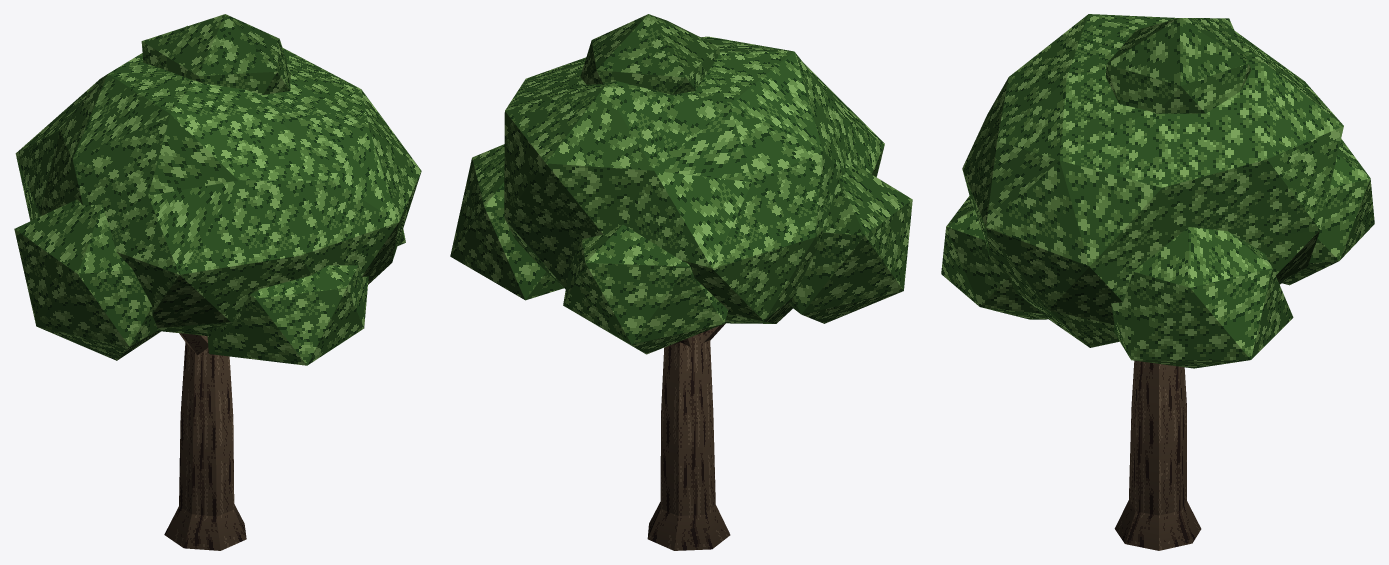
File: tree_oak_a.glb
The picture shows the model from 3 angles, left to right: view 1: azimuth 30°, elevation 25°; view 2: azimuth 150°, elevation 25°; view 3: azimuth 270°, elevation 25°; orthographic projection. The views are drawn at different scales.
Visible parts, largest first — view 1: tree_oak_a; view 2: tree_oak_a; view 3: tree_oak_a.
Boxes of the visible parts, x1,y1,x2,y2 form: tree_oak_a: (14, 14, 421, 550); tree_oak_a: (450, 14, 912, 550); tree_oak_a: (941, 14, 1374, 550).
Bounding box in the file's own units: 4.4 × 5.52 × 4.1.
Materials: 2 (2 with a texture image).
